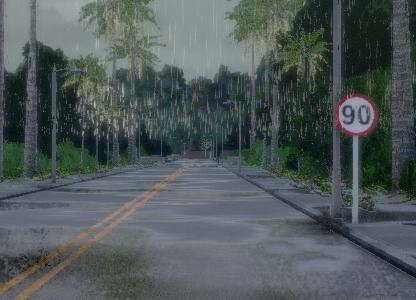Speed_90: (333, 91, 378, 137)
